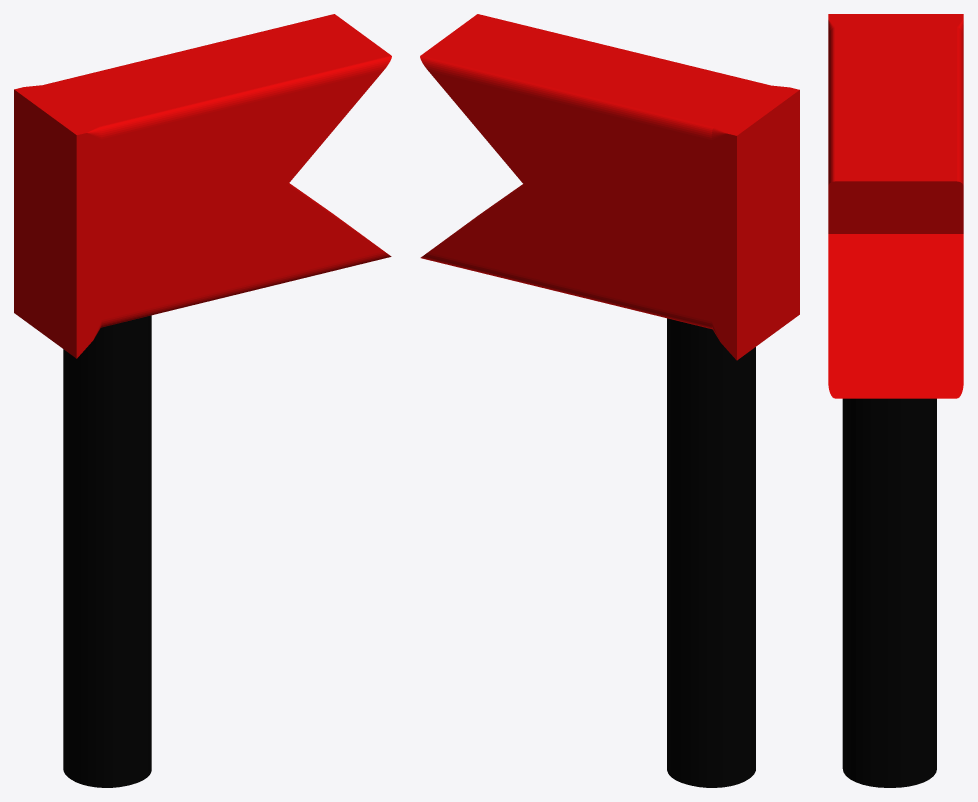
The model's file is flag.fbx.
3 views of the same model, side by side, from view 1: azimuth 30°, elevation 25°; view 2: azimuth 150°, elevation 25°; view 3: azimuth 270°, elevation 25° (orthographic). The views are drawn at different scales.
Visible parts, largest first — view 1: Cube; view 2: Cube; view 3: Cube.
Part boxes in pixels (x1,y1,x2,y2): Cube: [14, 14, 391, 787]; Cube: [420, 14, 799, 787]; Cube: [828, 14, 963, 787].
Bounding box in the file's own units: 295 × 594 × 101.
